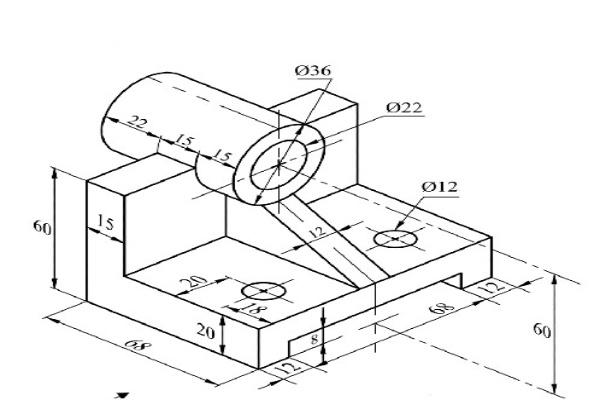dimensions: (417, 176, 464, 197), (290, 58, 334, 77), (123, 329, 153, 356), (122, 106, 152, 133), (175, 271, 213, 292), (189, 316, 218, 343), (427, 298, 457, 322), (529, 313, 553, 342), (475, 278, 508, 299), (385, 99, 425, 115), (212, 143, 236, 168), (27, 214, 53, 237), (272, 361, 305, 379), (96, 208, 117, 233), (172, 129, 195, 150), (308, 332, 319, 349)
